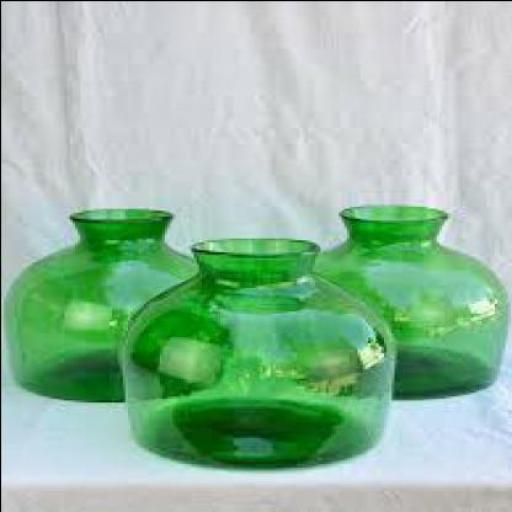glass: (116, 235, 391, 467), (1, 207, 222, 402), (306, 201, 501, 396)
